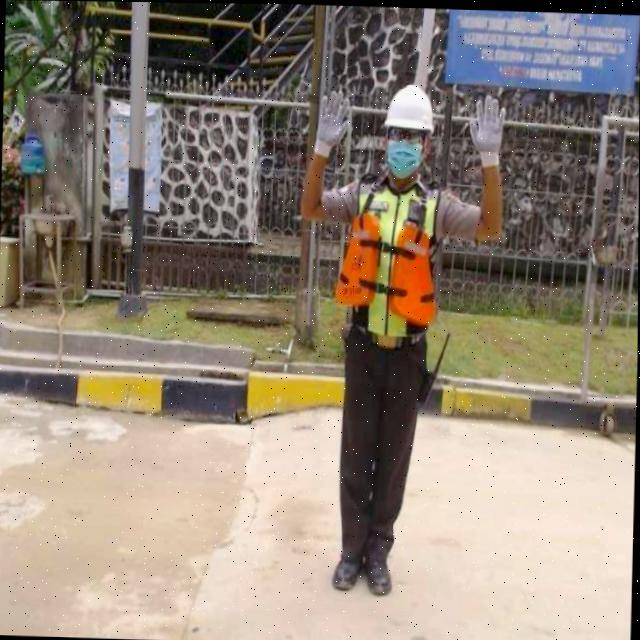goggles_on: (379, 118, 436, 158)
